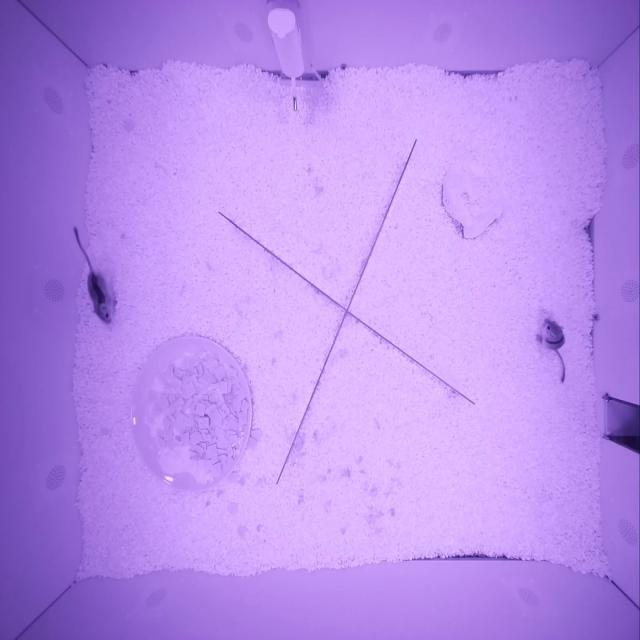pup_h_stripe: (540, 318, 566, 350)
pup_v_stripe: (86, 270, 114, 324)
